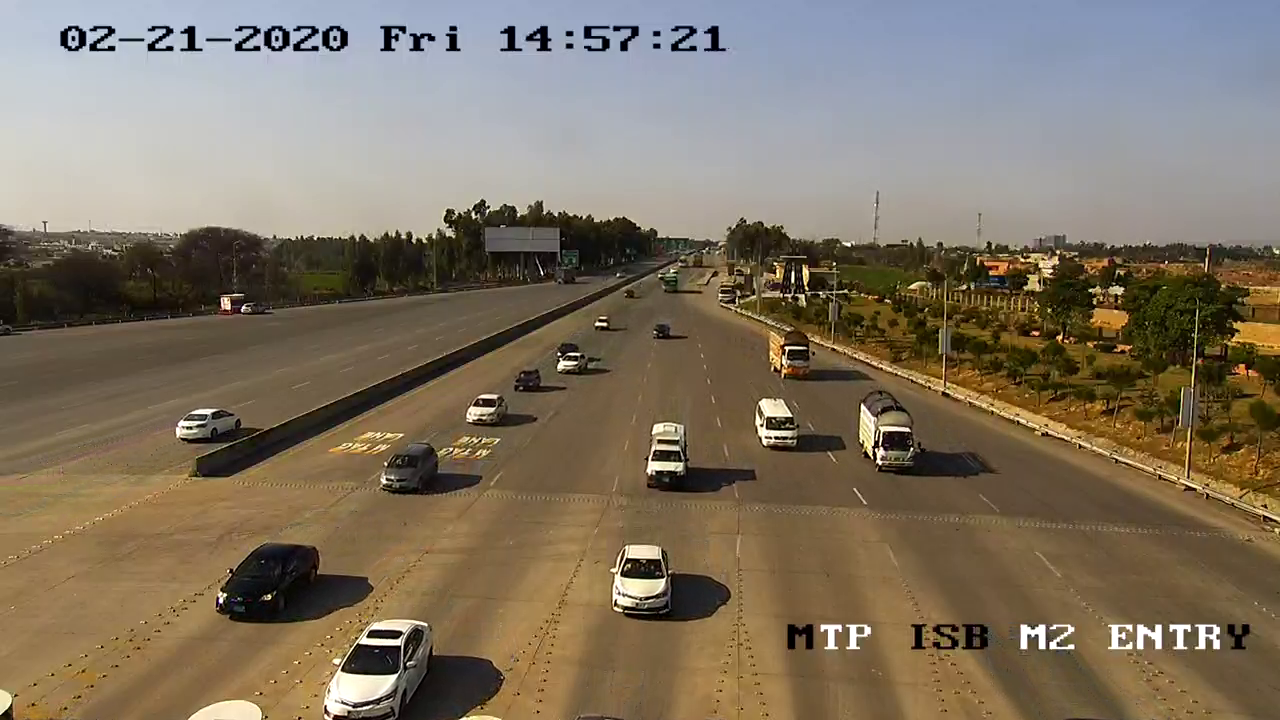f1: (314, 609, 452, 720), (203, 536, 325, 629), (602, 526, 684, 638), (634, 412, 700, 498), (369, 435, 452, 501), (460, 384, 514, 440)
f2: (740, 389, 808, 466)
f5: (846, 380, 935, 484), (757, 311, 829, 389)
